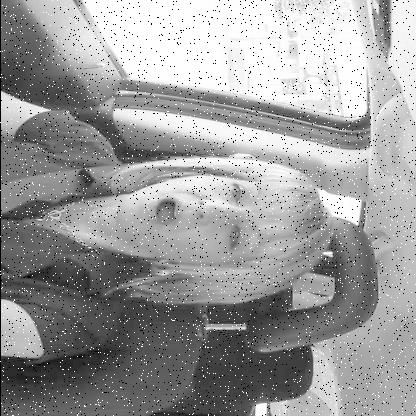seatbelt: (0, 137, 361, 298)
